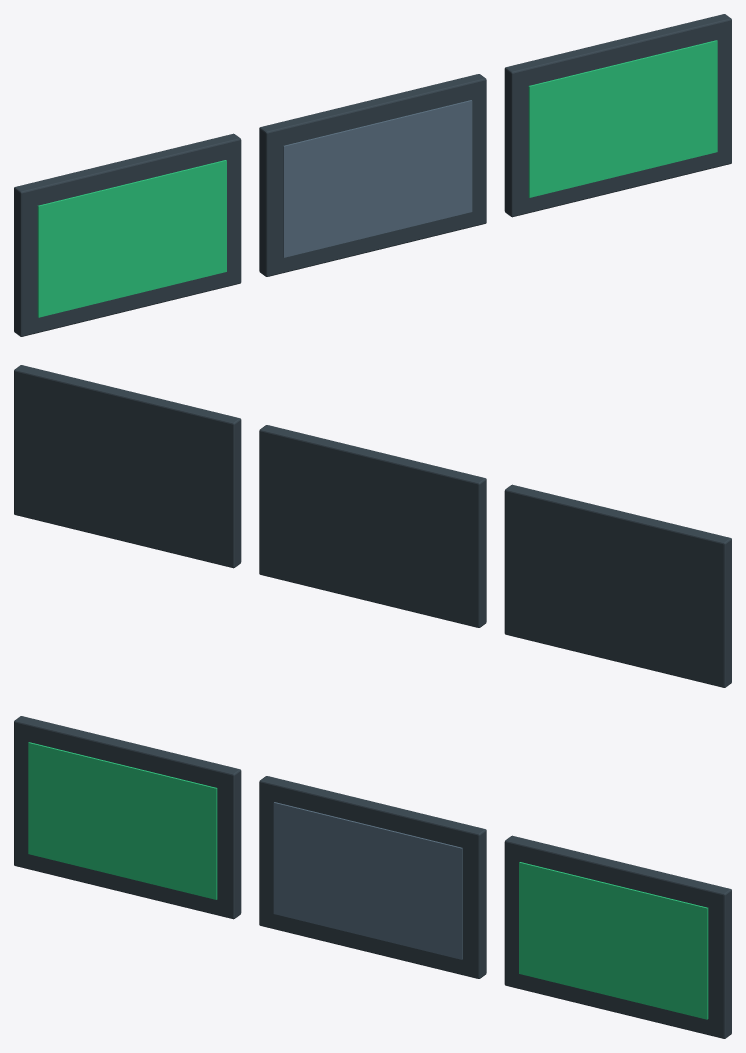
The model's file is CC_S16_P2_Expansion_Market_AnalysisWall_LOD0.fbx.
The picture shows the model from 3 angles, top to bottom: view 1: azimuth 30°, elevation 25°; view 2: azimuth 150°, elevation 25°; view 3: azimuth 330°, elevation 25°; orthographic projection.
Visible parts, largest first — view 1: CC_S16_P2_Expansion_Market_AnalysisWall_LOD0; view 2: CC_S16_P2_Expansion_Market_AnalysisWall_LOD0; view 3: CC_S16_P2_Expansion_Market_AnalysisWall_LOD0.
Part boxes in pixels (left/top/right/bottom): CC_S16_P2_Expansion_Market_AnalysisWall_LOD0: left=14, top=14, right=731, bottom=336; CC_S16_P2_Expansion_Market_AnalysisWall_LOD0: left=14, top=365, right=731, bottom=687; CC_S16_P2_Expansion_Market_AnalysisWall_LOD0: left=14, top=716, right=731, bottom=1038.
Size of what is drawn, in the model's own units: 4.35 by 0.85 by 0.095.
